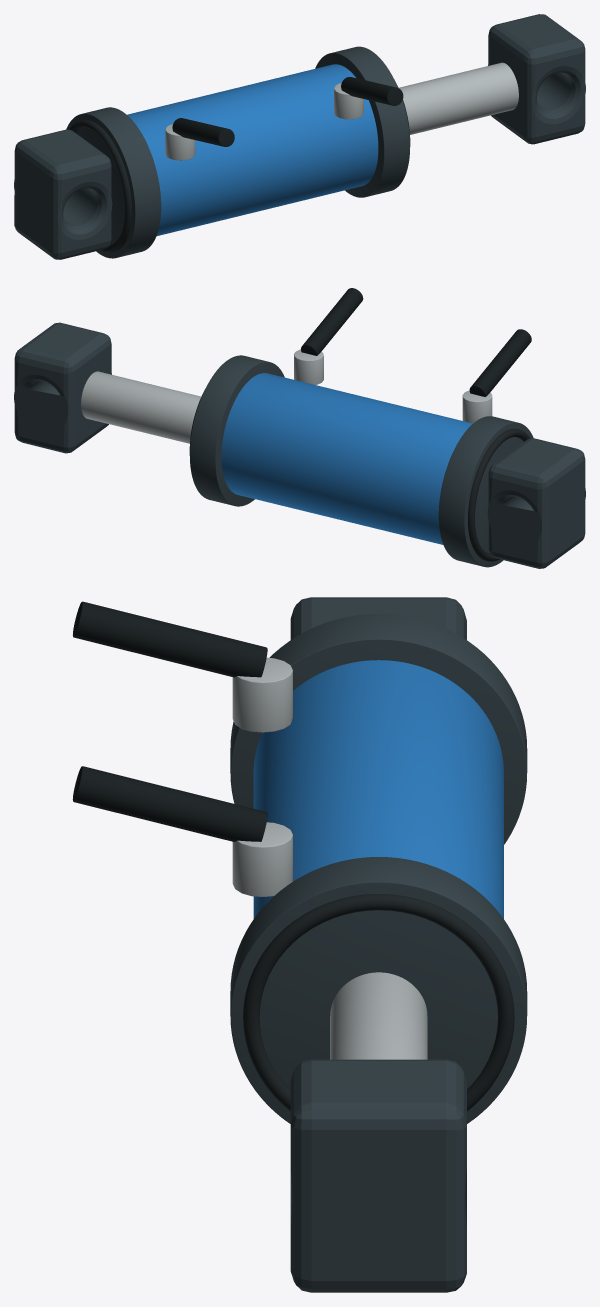
Rendered from hydraulic_welded_body_cylinder.glb.
3 renders of one model, top to bottom at view 1: azimuth 30°, elevation 25°; view 2: azimuth 150°, elevation 25°; view 3: azimuth 270°, elevation 25°, orthographic. The views are drawn at different scales.
Visible parts, largest first — view 1: HYD_BARREL, REAR_CLEVIS, ROD_CLEVIS, END_CAP_-0.62, KIN_CHROME_ROD, END_CAP_0.62, CAP_SEAL_-0.62, HOSE_-0.42, HOSE_0.42, SAE_PORT_-0.42, SAE_PORT_0.42; view 2: HYD_BARREL, REAR_CLEVIS, ROD_CLEVIS, END_CAP_-0.62, KIN_CHROME_ROD, END_CAP_0.62, HOSE_0.42, HOSE_-0.42, CAP_SEAL_-0.62, SAE_PORT_0.42, SAE_PORT_-0.42; view 3: HYD_BARREL, ROD_CLEVIS, END_CAP_0.62, END_CAP_-0.62, CAP_SEAL_0.62, KIN_CHROME_ROD, HOSE_0.42, HOSE_-0.42, REAR_CLEVIS, SAE_PORT_-0.42, SAE_PORT_0.42.
Boxes of the visible parts, left/top/right/bottom form: HYD_BARREL: left=127, top=64, right=378, bottom=235; REAR_CLEVIS: left=14, top=129, right=112, bottom=259; ROD_CLEVIS: left=488, top=14, right=585, bottom=144; END_CAP_-0.62: left=66, top=107, right=161, bottom=258; KIN_CHROME_ROD: left=399, top=62, right=518, bottom=134; END_CAP_0.62: left=315, top=46, right=410, bottom=197; CAP_SEAL_-0.62: left=69, top=120, right=131, bottom=252; HOSE_-0.42: left=172, top=118, right=234, bottom=146; HOSE_0.42: left=341, top=77, right=403, bottom=105; SAE_PORT_-0.42: left=165, top=124, right=195, bottom=160; SAE_PORT_0.42: left=334, top=83, right=363, bottom=119; HYD_BARREL: left=221, top=373, right=472, bottom=544; REAR_CLEVIS: left=487, top=438, right=585, bottom=568; ROD_CLEVIS: left=14, top=322, right=111, bottom=453; END_CAP_-0.62: left=438, top=416, right=533, bottom=567; KIN_CHROME_ROD: left=81, top=371, right=200, bottom=443; END_CAP_0.62: left=189, top=355, right=284, bottom=506; HOSE_0.42: left=301, top=288, right=363, bottom=355; HOSE_-0.42: left=469, top=329, right=531, bottom=396; CAP_SEAL_-0.62: left=468, top=428, right=530, bottom=561; SAE_PORT_0.42: left=294, top=349, right=323, bottom=384; SAE_PORT_-0.42: left=462, top=390, right=492, bottom=423; HYD_BARREL: left=253, top=660, right=503, bottom=918; ROD_CLEVIS: left=290, top=1059, right=466, bottom=1292; END_CAP_0.62: left=230, top=857, right=527, bottom=1123; END_CAP_-0.62: left=230, top=614, right=527, bottom=844; CAP_SEAL_0.62: left=243, top=894, right=514, bottom=1111; KIN_CHROME_ROD: left=330, top=972, right=427, bottom=1059; HOSE_0.42: left=72, top=766, right=267, bottom=841; HOSE_-0.42: left=73, top=601, right=267, bottom=677; REAR_CLEVIS: left=290, top=597, right=466, bottom=639; SAE_PORT_-0.42: left=232, top=657, right=292, bottom=732; SAE_PORT_0.42: left=232, top=822, right=292, bottom=896.
Bounding box in the file's own units: 2.66 × 0.788 × 0.9801.
